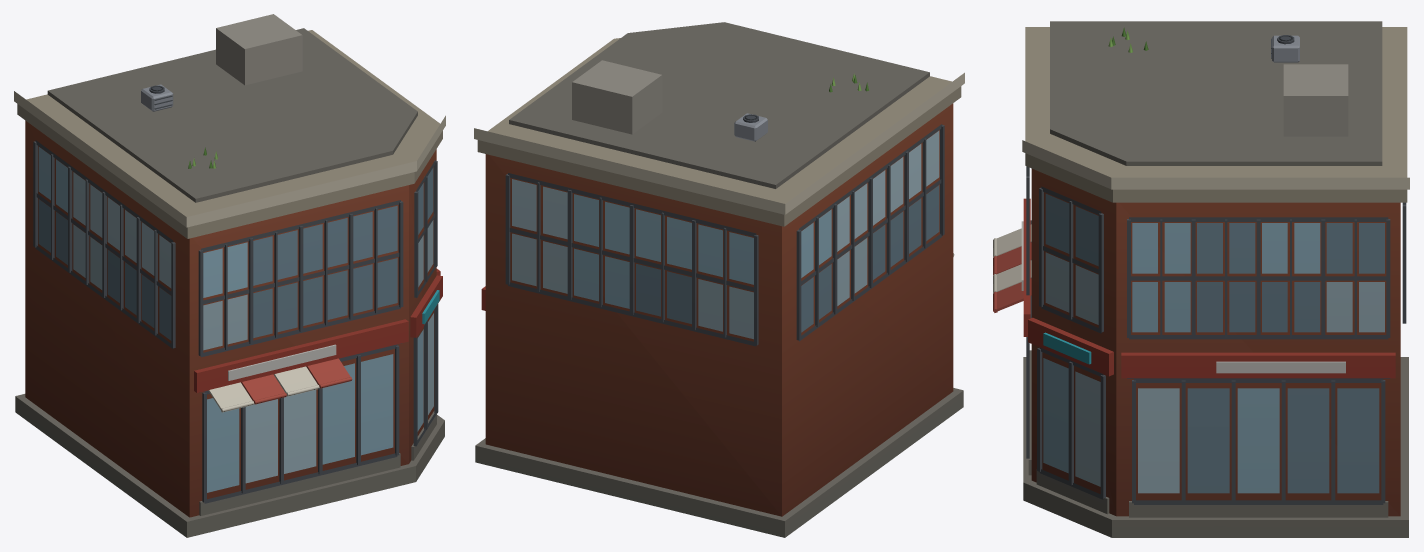
Rendered from corner-shop.glb.
3 views of the same model, side by side, from view 1: azimuth 30°, elevation 25°; view 2: azimuth 150°, elevation 25°; view 3: azimuth 270°, elevation 25° (orthographic). The views are drawn at different scales.
Visible parts, largest first — view 1: corner_shop_01; view 2: corner_shop_01; view 3: corner_shop_01.
Part boxes in pixels (bbox=[...]): corner_shop_01: bbox=[14, 14, 445, 537]; corner_shop_01: bbox=[474, 22, 964, 537]; corner_shop_01: bbox=[993, 21, 1409, 537].
Size of the model in its own units: 7.79 by 8.98 by 8.36.
